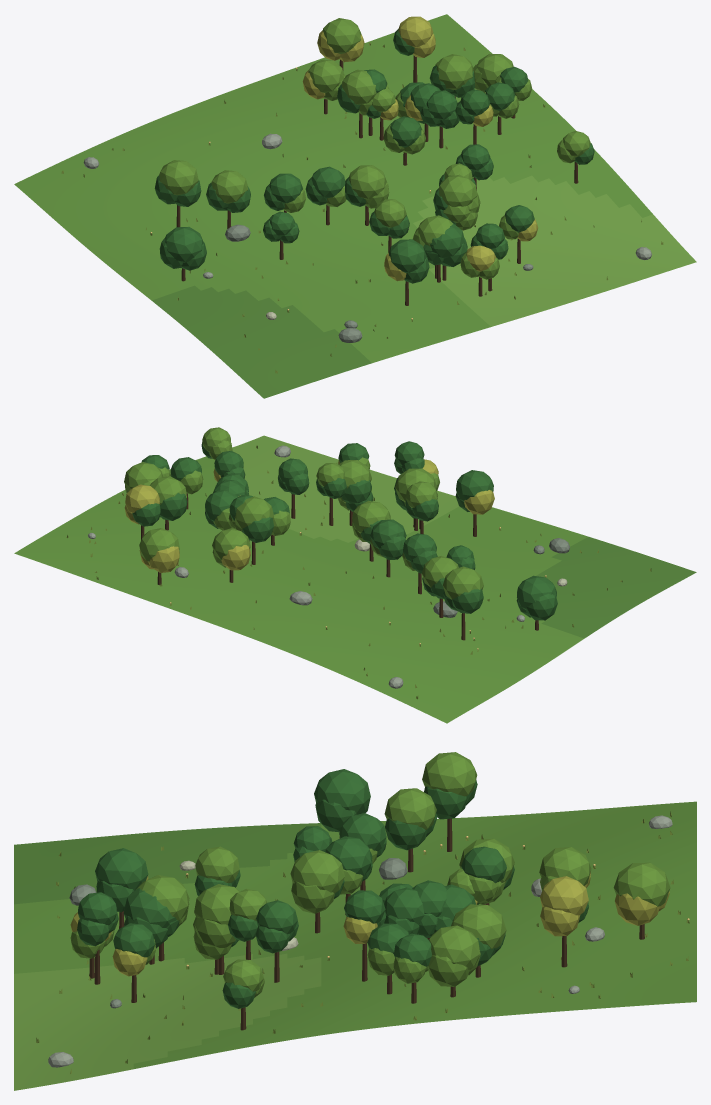
Rendered from Chunk_X-3_Y0_Z-3.fbx.
3 renders of one model, top to bottom at view 1: azimuth 30°, elevation 25°; view 2: azimuth 150°, elevation 25°; view 3: azimuth 270°, elevation 25°, orthographic. The views are drawn at different scales.
Parts seen in each view (by area): view 1: Terrain, Canopies, Trunks, Rocks; view 2: Terrain, Canopies, Rocks, Trunks, GroundCover; view 3: Terrain, Canopies, Trunks, Rocks, GroundCover.
Part boxes in pixels (x1,y1,x2,y2): Terrain: (14, 14, 696, 398); Canopies: (154, 16, 594, 283); Trunks: (176, 55, 578, 305); Rocks: (83, 133, 651, 342); Terrain: (14, 435, 696, 723); Canopies: (124, 427, 557, 620); Rocks: (88, 445, 569, 688); Trunks: (141, 493, 538, 640); GroundCover: (66, 445, 651, 699); Terrain: (14, 801, 696, 1090); Canopies: (70, 752, 670, 1008); Trunks: (89, 818, 644, 1030); Rocks: (48, 815, 672, 1067); GroundCover: (36, 811, 689, 1074).
Size of the model in its own units: 100 by 32.55 by 100.
